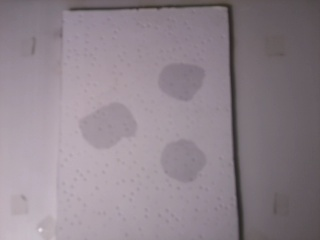Water_detected: (82, 106, 140, 143), (160, 151, 199, 188), (155, 67, 195, 98)
